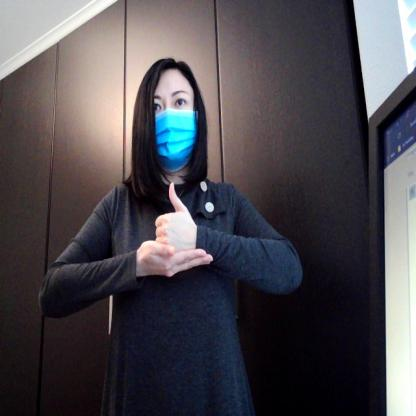help: (131, 178, 220, 288)
